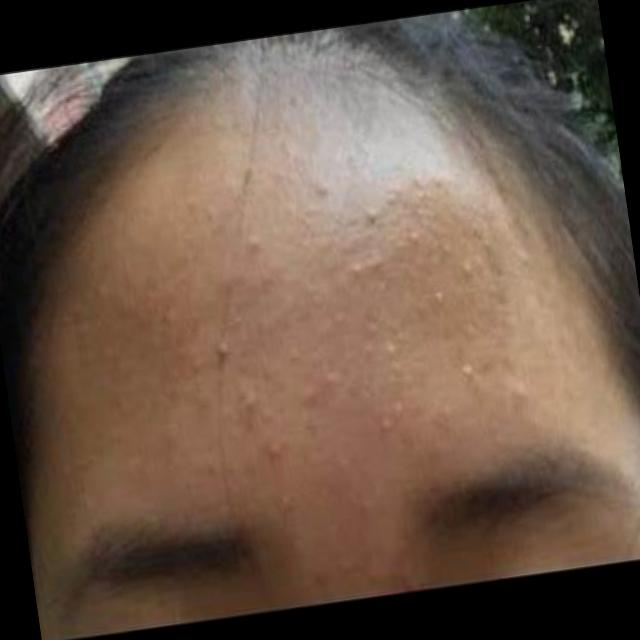fungal: (180, 134, 537, 485)
